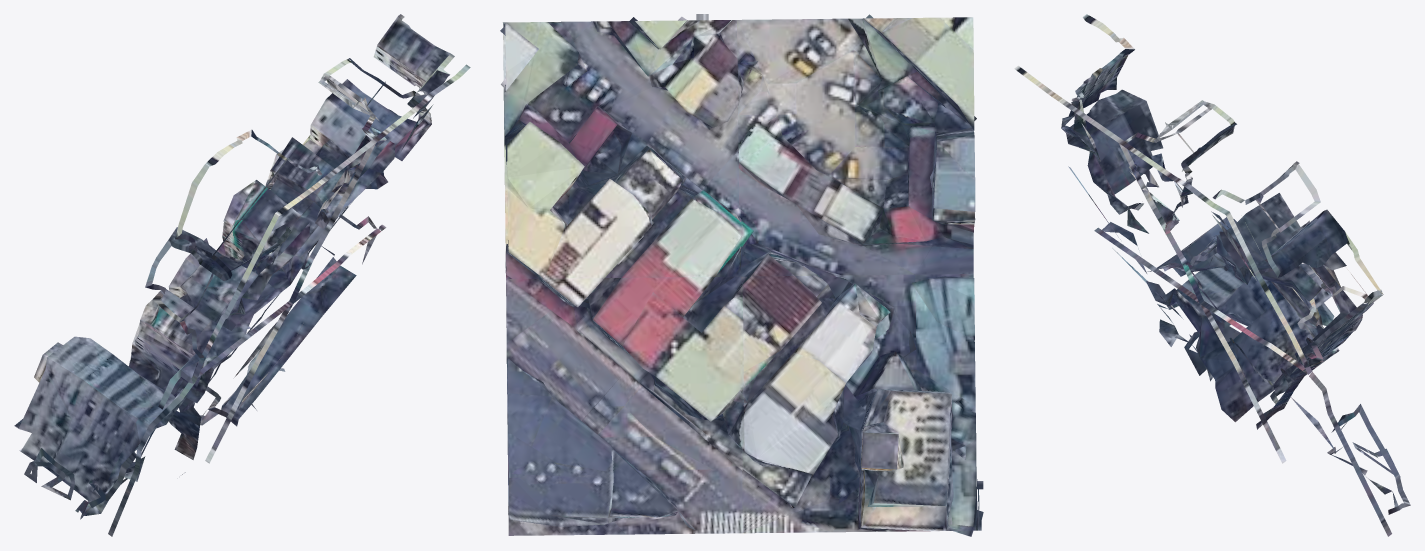
3 renders of one model, left to right at view 1: azimuth 30°, elevation 25°; view 2: azimuth 150°, elevation 25°; view 3: azimuth 270°, elevation 25°, orthographic. The views are drawn at different scales.
Size of the model in its own units: 86.22 by 75.82 by 67.9.
Materials: 1 (1 with a texture image).
